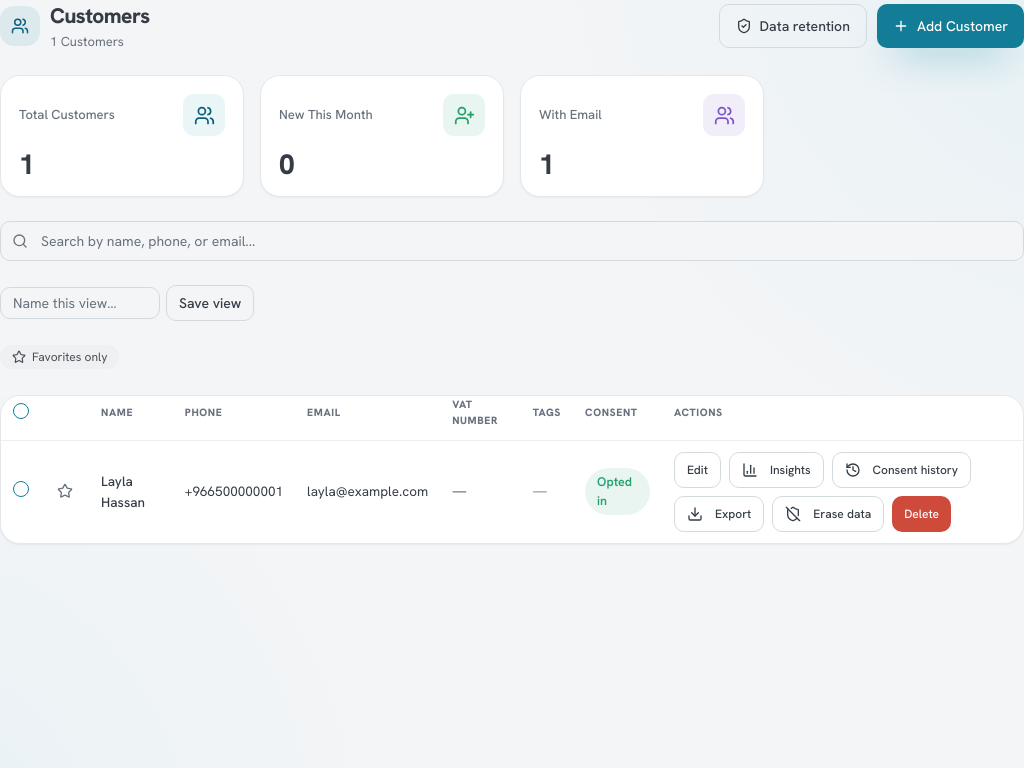
Test: CustomerManagement — consent-history viewer (#272) › opens a per-customer consent trail and lists each change
Expected: the text "Layla Hassan" is shown, [89,440,173,542]
Click the button "Consent history".
click(901, 470)  # box [832,452,971,488]
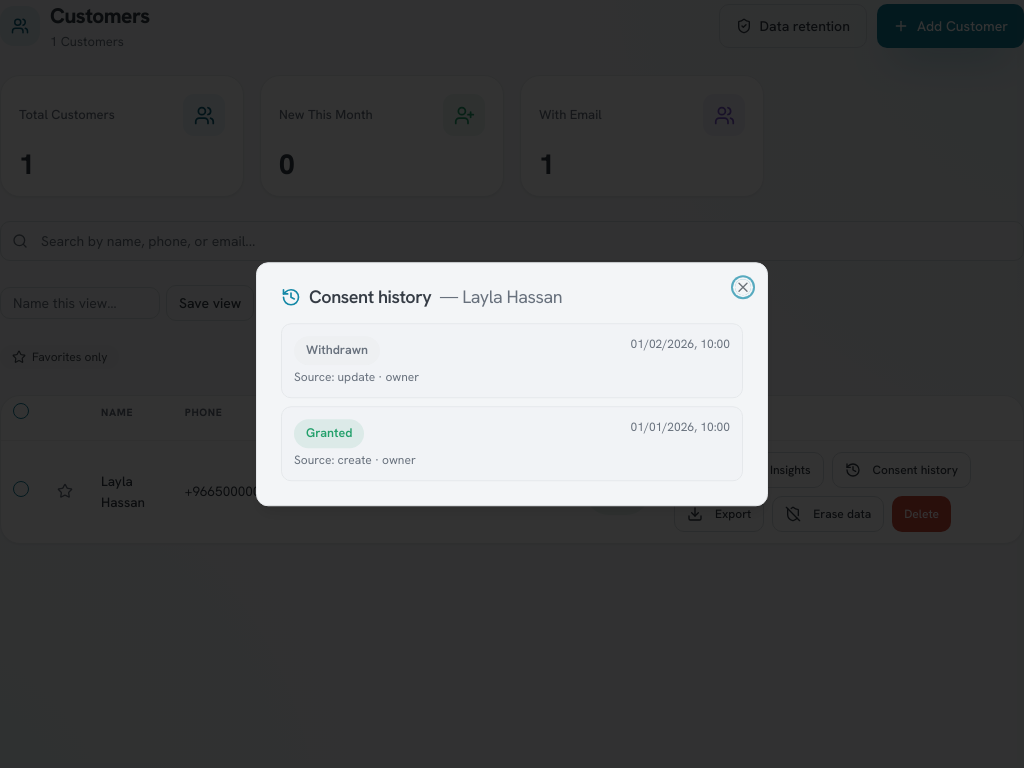
Result: the text "Withdrawn" is shown at [294,336,380,365]
Result: the text "Granted" is shown at [294,419,364,448]
